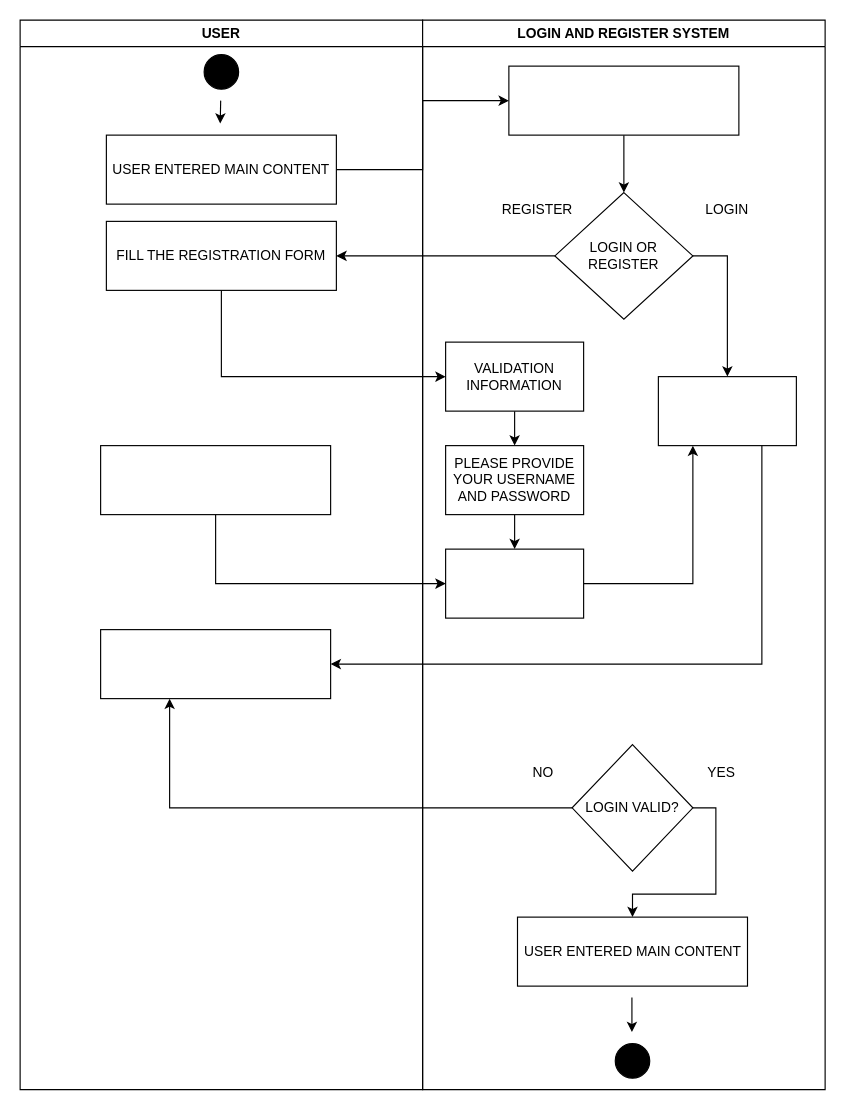
Image size: 845x1110. Some labels were removed from this diagram. The centre of each missing label's shape, as x and y in pixels:
"DISPLAY LOGIN FORM" belongs at (x=726, y=410).
"ENTERS USERNAME AND PASSWORD" belongs at (x=215, y=663).
"PROVIDES LOGIN USERNAME AND PASSWORD" belongs at (x=215, y=479).
"SAVE USERNAME AND PASSWORD" belongs at (x=514, y=583).
"USER WANT TO MAKE ACCOUNT OR LOGIN" belongs at (x=623, y=100).
